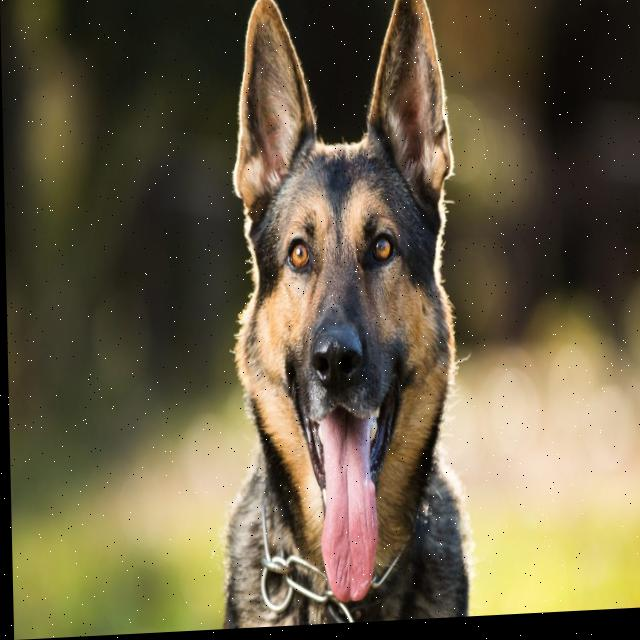GERMAN_SHEPHERD: (198, 0, 477, 632)
